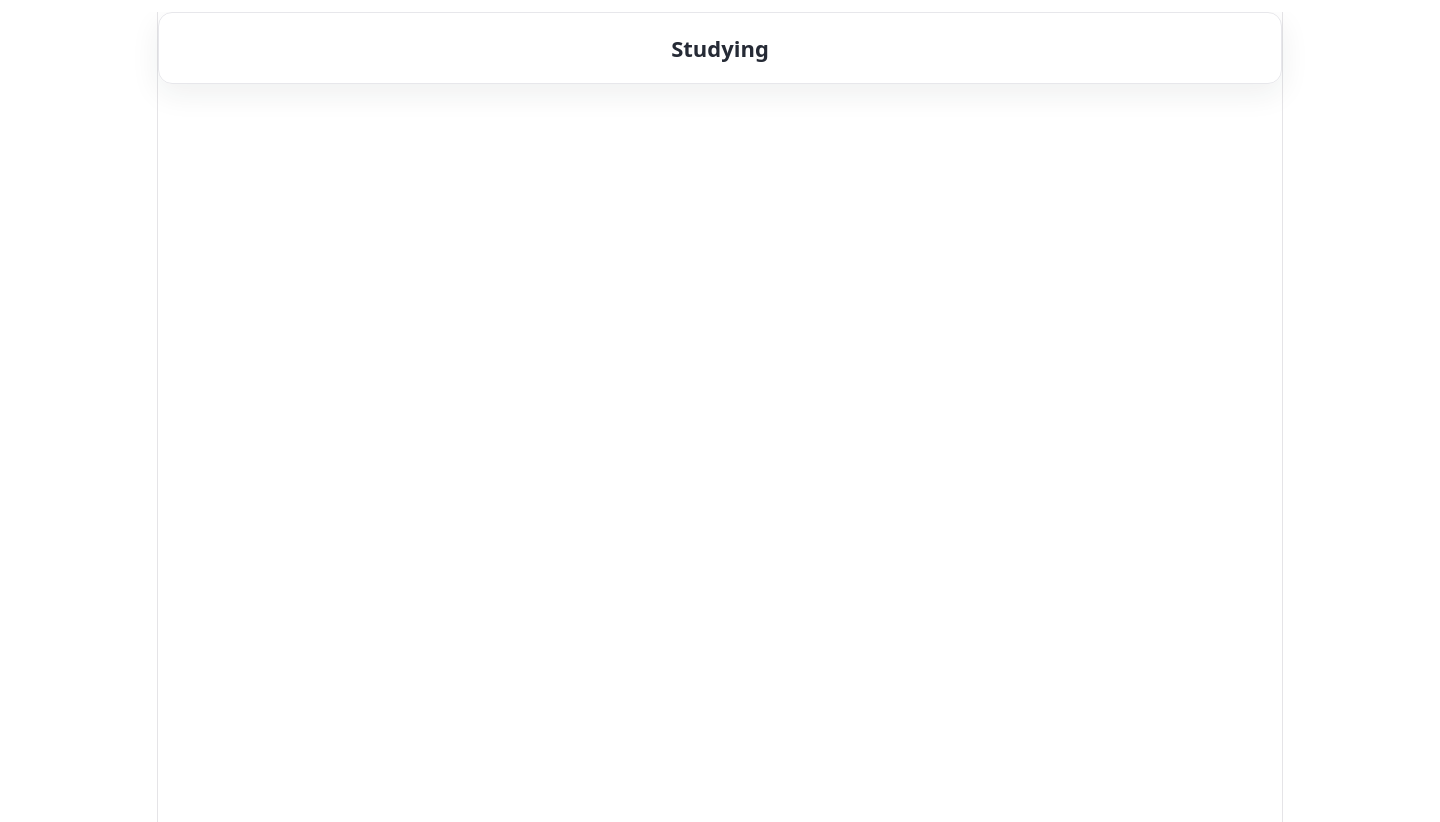
Test: App components › updates selected category and navigates when a category is selected
Click the button "Studying" at (720, 48), box [158, 12, 1282, 84]
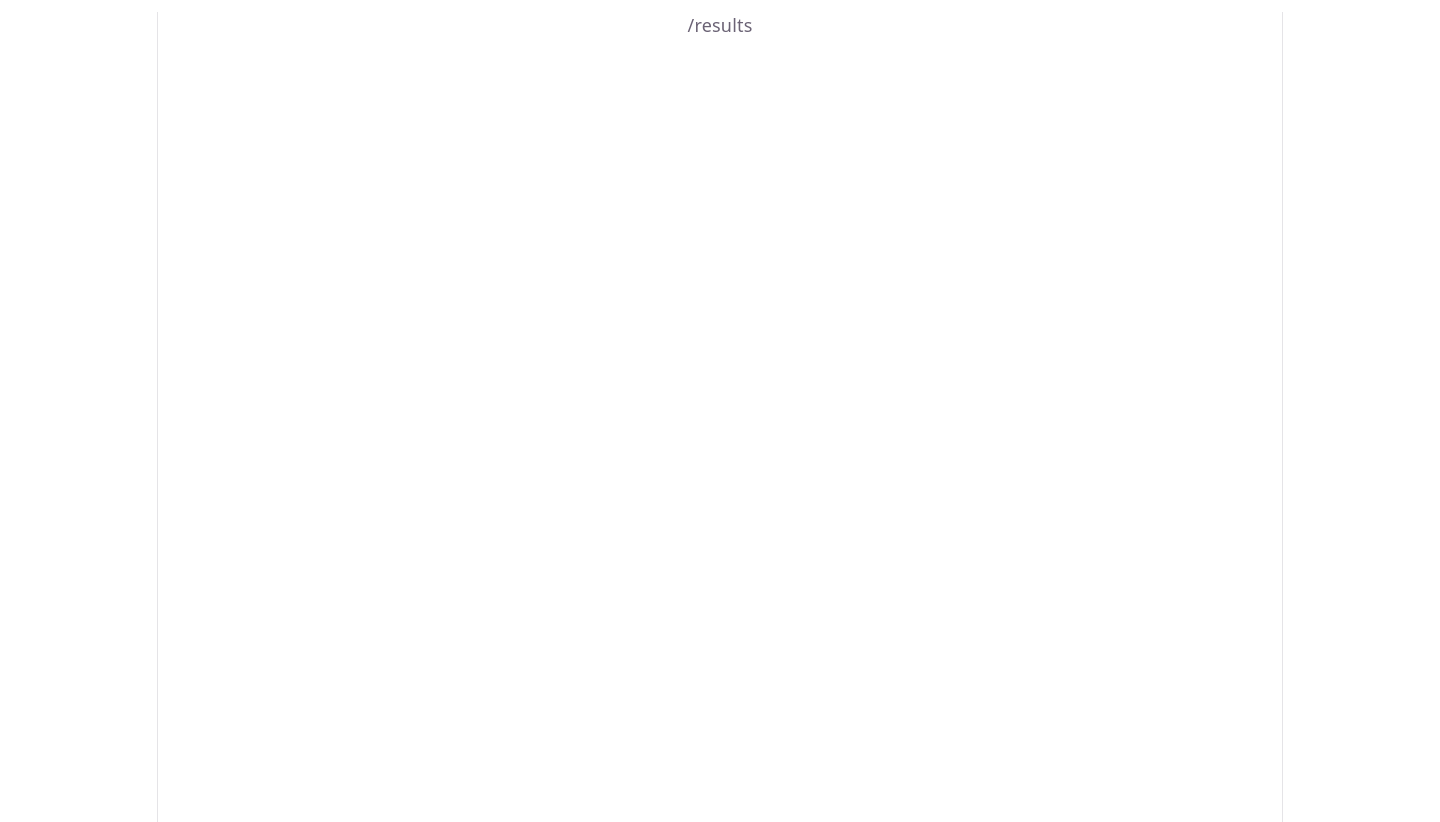
Expected: the text with test id "location" reads "/results", [688, 13, 752, 37]
